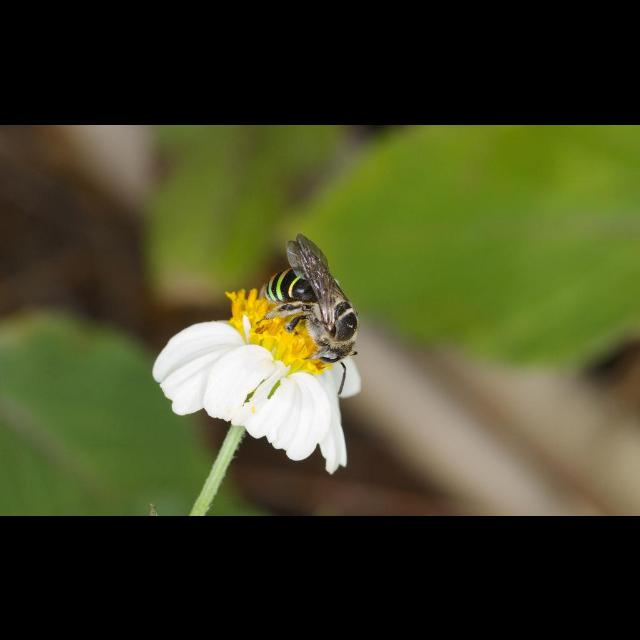Flower: (143, 288, 303, 457)
